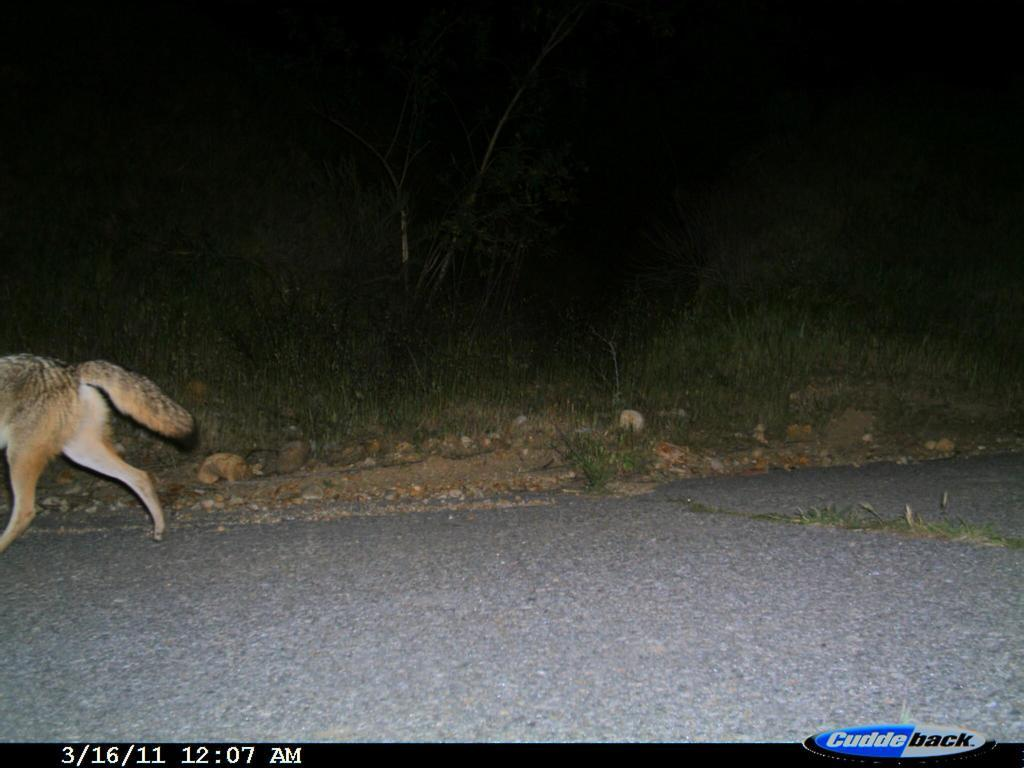coyote: (1, 338, 213, 566)
